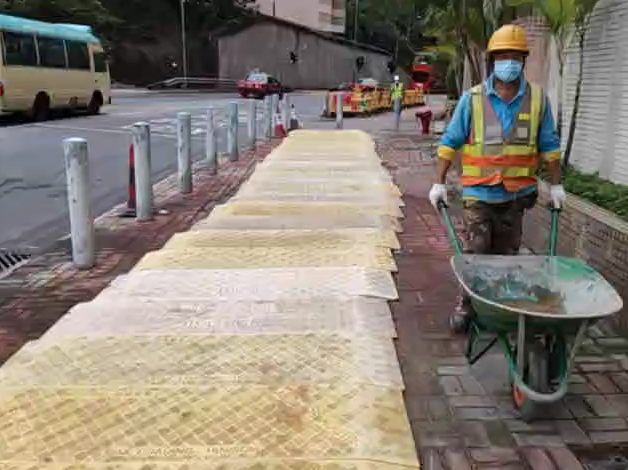Hard Hat: (484, 25, 531, 89)
Person: (442, 26, 566, 335)
Vest: (460, 58, 545, 199)
